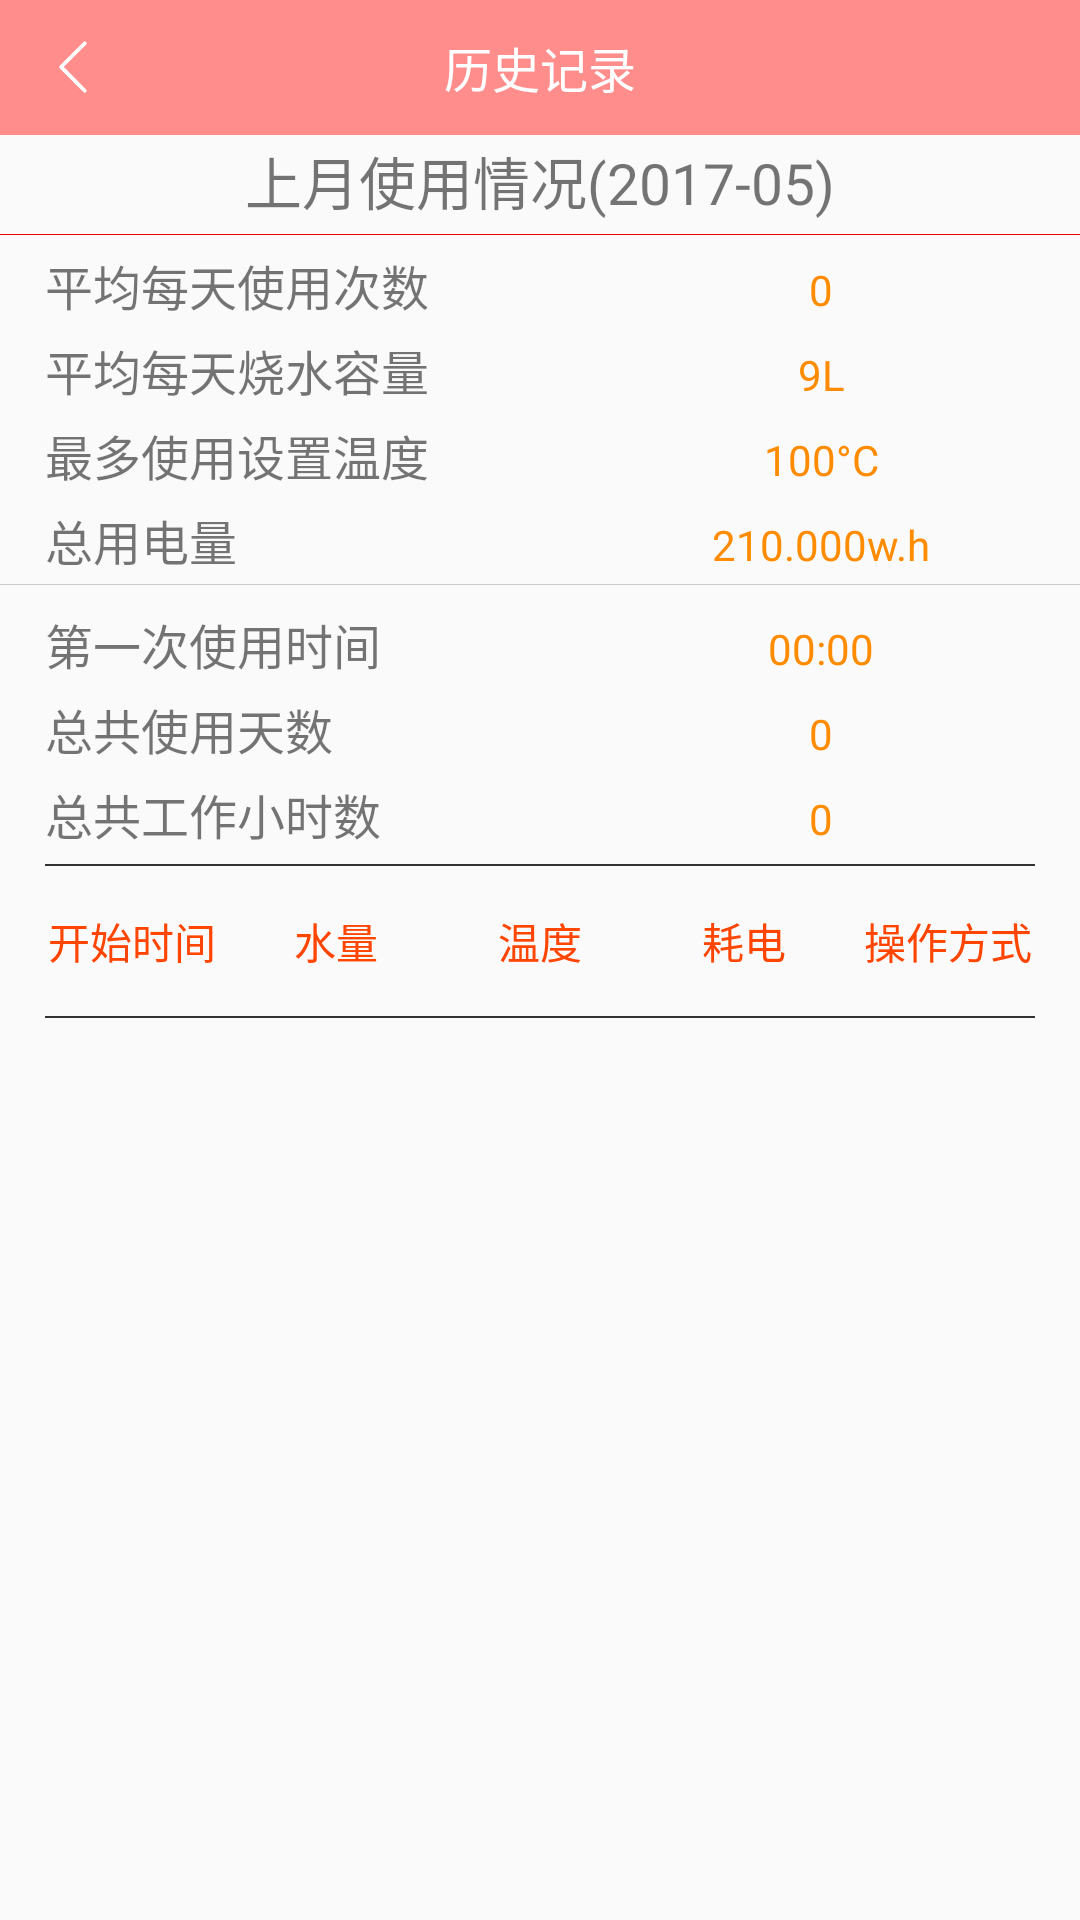

Locate icon controls on the screen. Image size 1080x1920, boxes as (left=x1, top=y1, right=x2, bottom=y2).
fanhuijian: (left=59, top=41, right=87, bottom=93)
